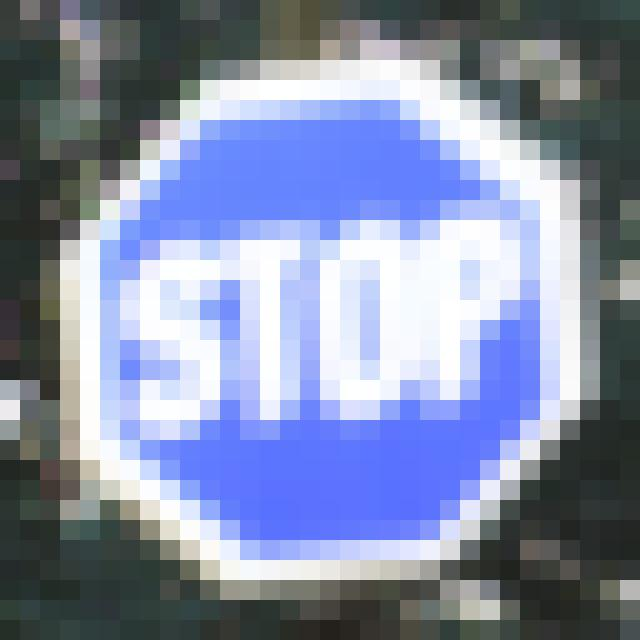STOP: (92, 90, 586, 564)
